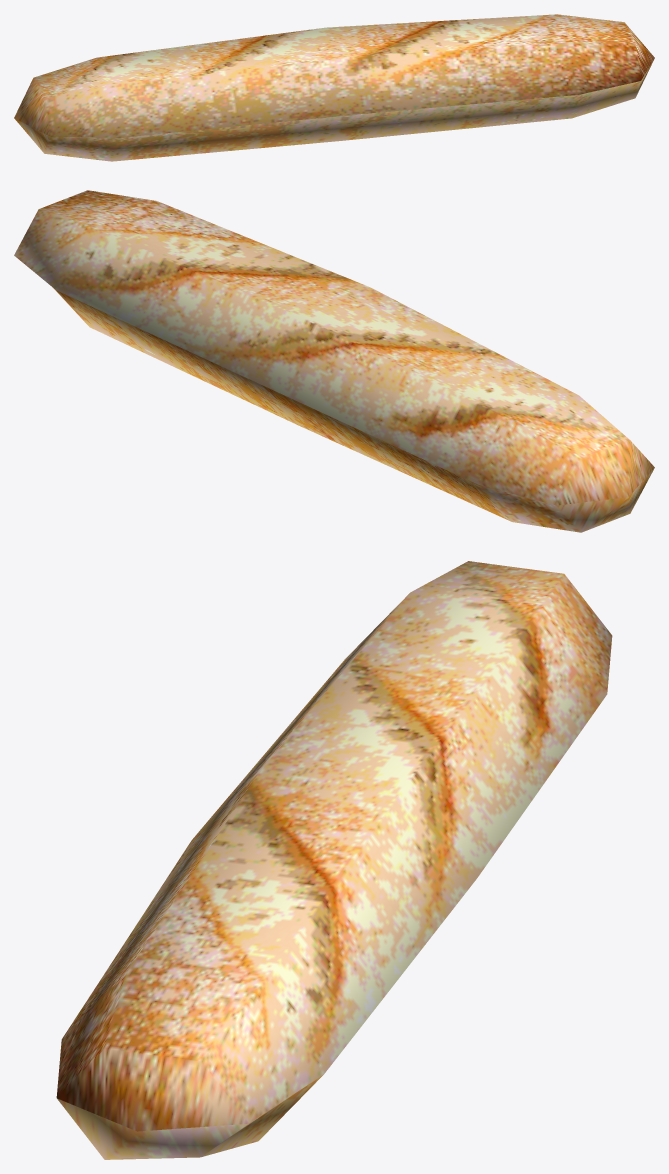
Rendered from VFX_Breadstick.fbx.
3 renders of one model, top to bottom at view 1: azimuth 30°, elevation 25°; view 2: azimuth 150°, elevation 25°; view 3: azimuth 270°, elevation 25°, orthographic. The views are drawn at different scales.
Visible parts, largest first — view 1: Breadstick; view 2: Breadstick; view 3: Breadstick.
Part boxes in pixels (left/top/right/bottom): Breadstick: left=14, top=14, right=654, bottom=161; Breadstick: left=14, top=190, right=654, bottom=532; Breadstick: left=56, top=561, right=612, bottom=1159.
Bounding box in the file's own units: 0.1189 × 0.0174 × 0.0527.
